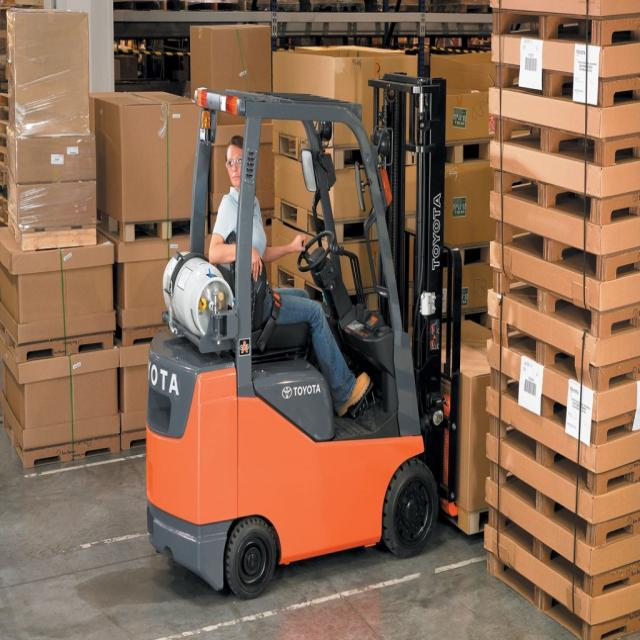Person: (210, 136, 370, 420)
